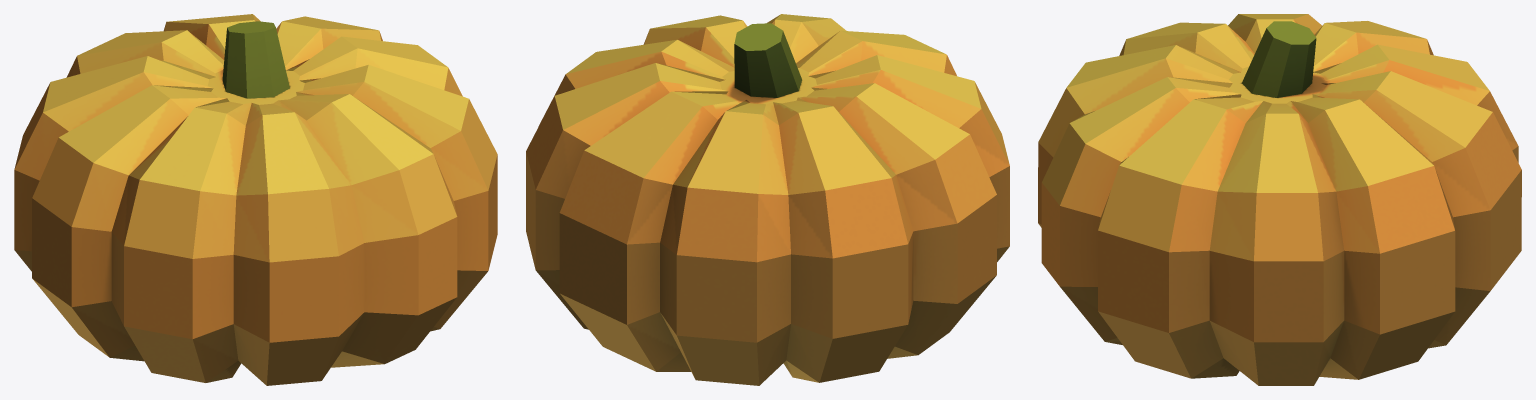
File: PUSHILIN_pumpkin.gltf
3 views of the same model, side by side, from view 1: azimuth 30°, elevation 25°; view 2: azimuth 150°, elevation 25°; view 3: azimuth 270°, elevation 25° (orthographic).
Parts seen in each view (by area): view 1: node-0; view 2: node-0; view 3: node-0.
Part boxes in pixels (x1,y1,x2,y2): node-0: (14,14,497,385); node-0: (526,14,1009,385); node-0: (1038,14,1521,385).
Size of the model in its own units: 1.65 by 1.19 by 1.66.
Materials: 1 (1 with a texture image).
